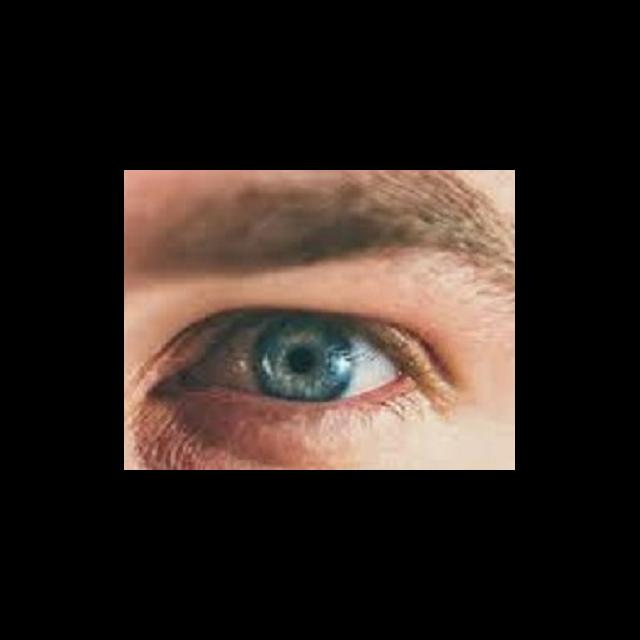eye: (190, 316, 400, 406)
iris: (253, 320, 354, 402)
